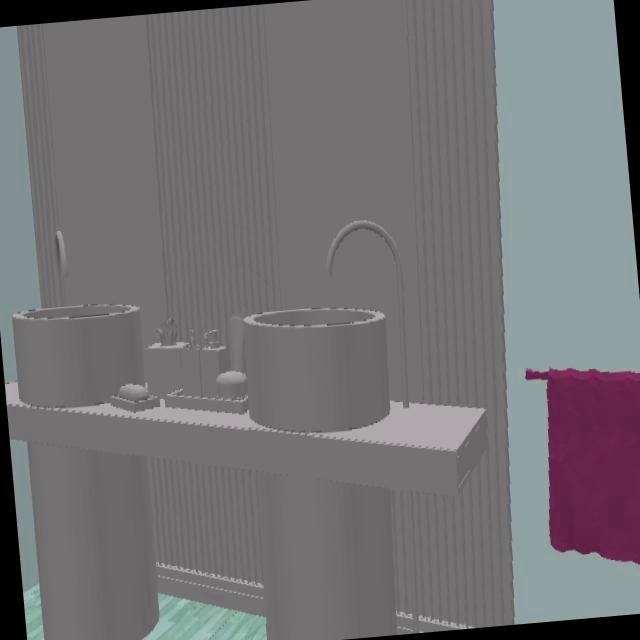washbasin: (239, 307, 391, 436), (11, 302, 145, 408)
